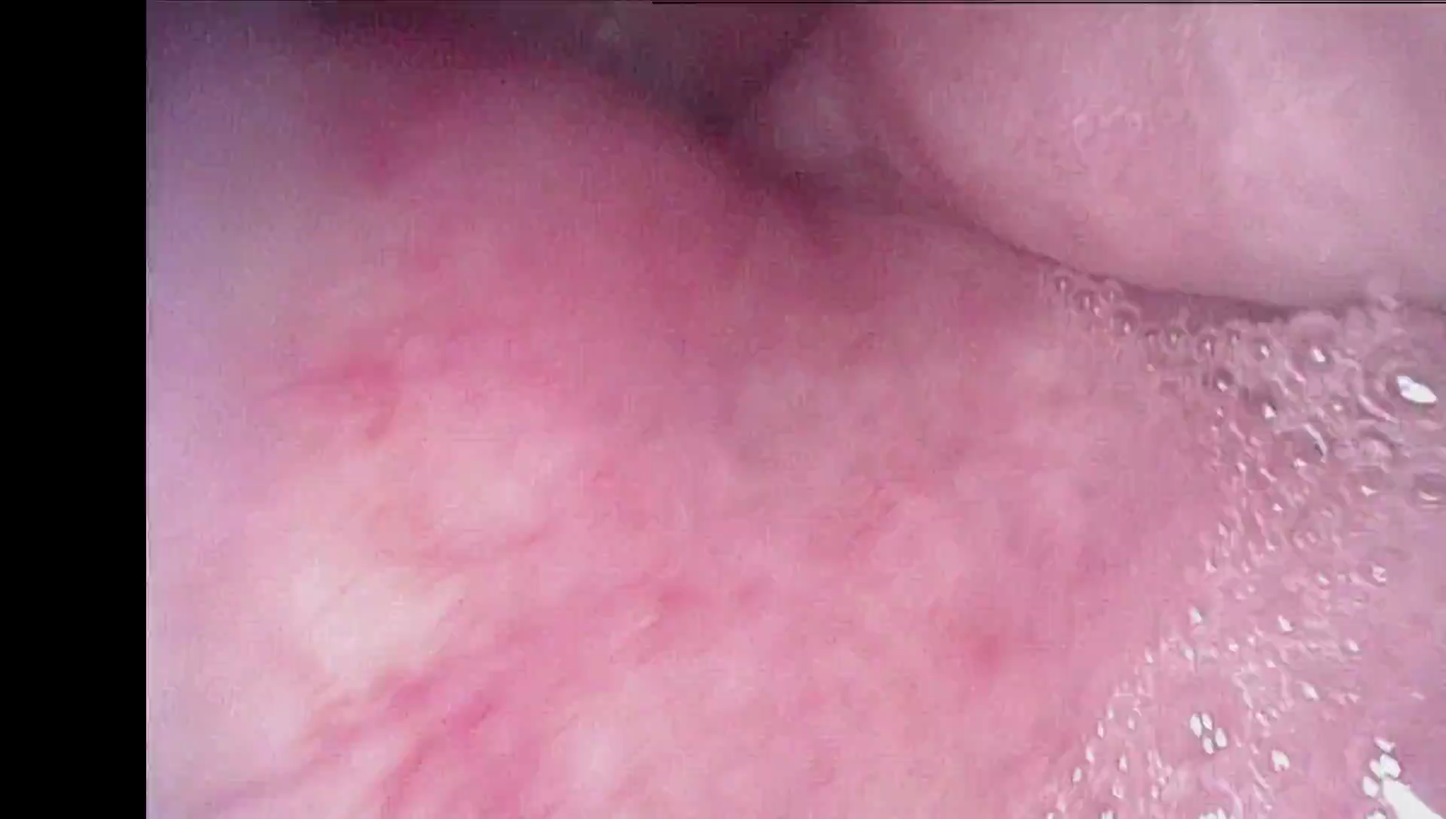next: (578, 20, 772, 156)
